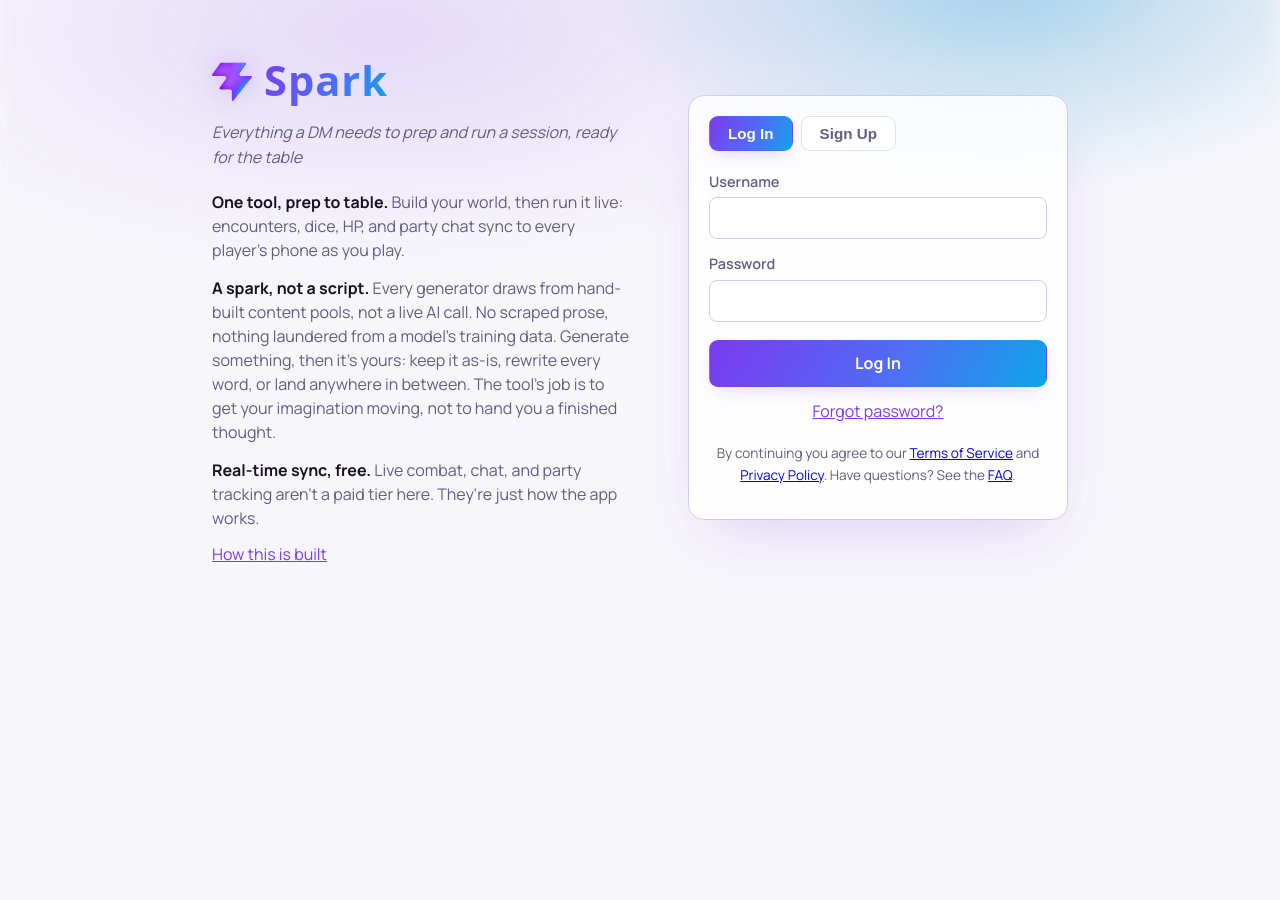
Test: AuthPage › blocks signup submission and shows an error when the confirmation doesn't match
Click the button "Sign Up".
click(848, 133)  # box [801, 116, 896, 151]
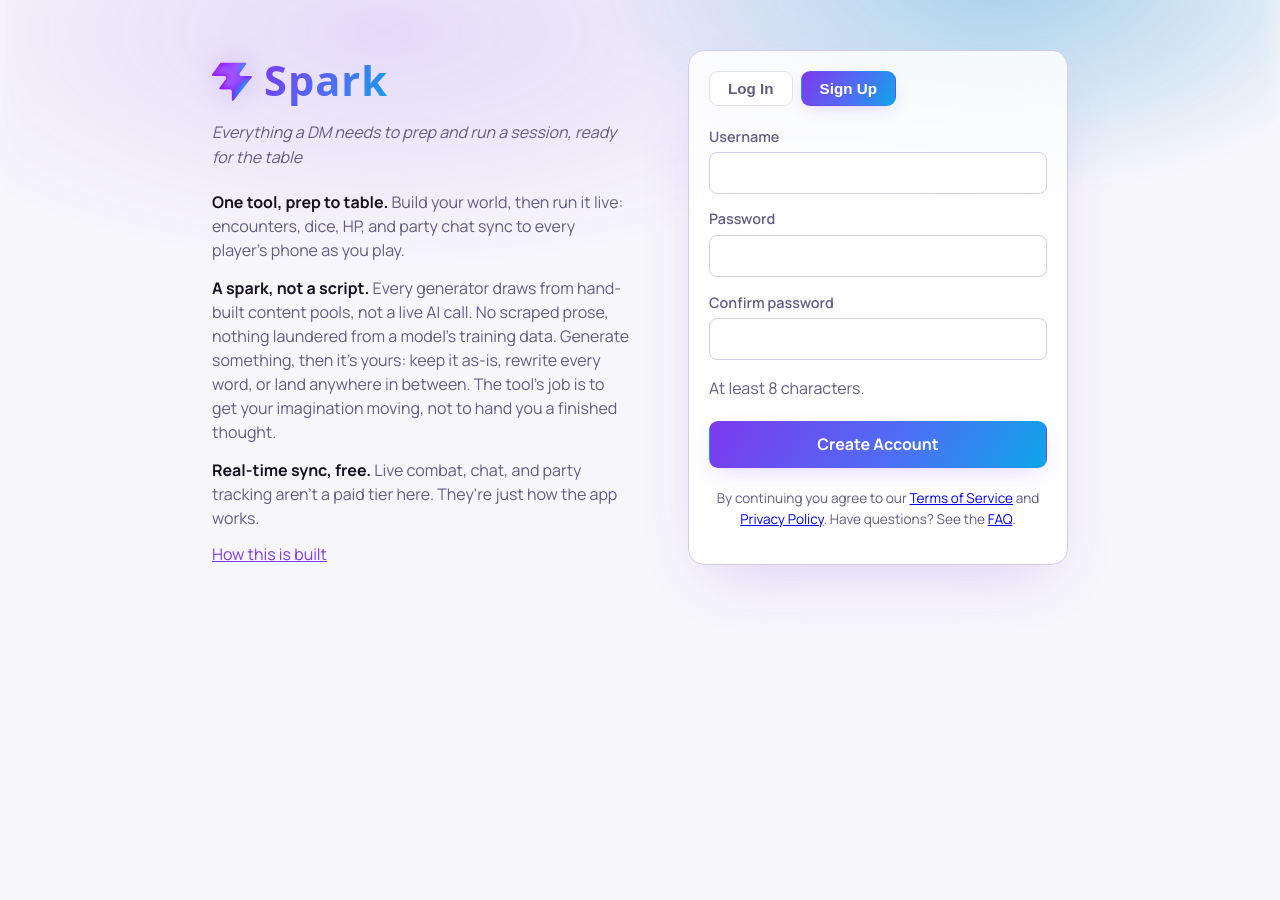
Type "newuser" into the field labelled "Username".
click(878, 174); type("newuser")  # box [709, 153, 1047, 195]
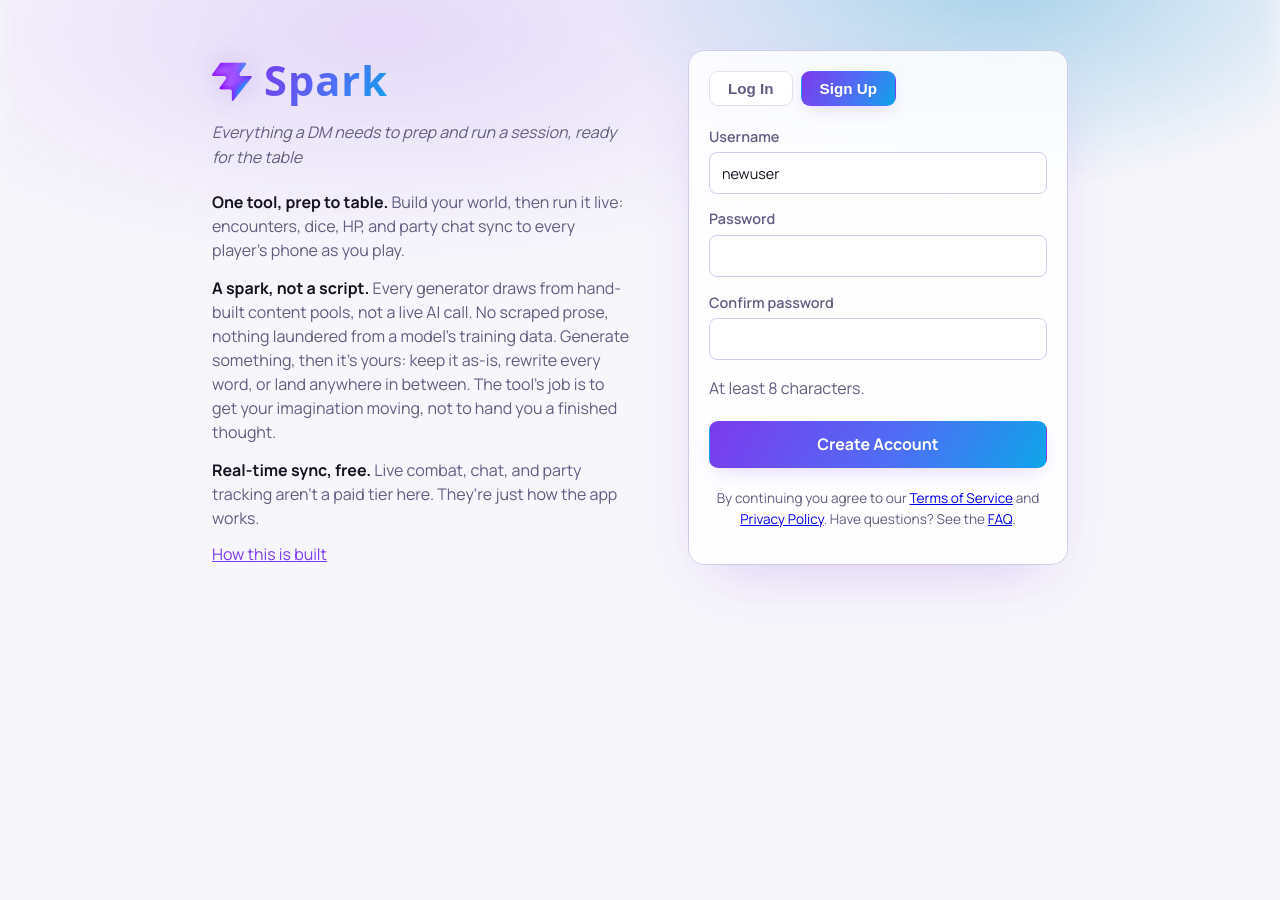
Type "password123" into the password field labelled "Password".
click(878, 256); type("password123")  # box [709, 235, 1047, 278]
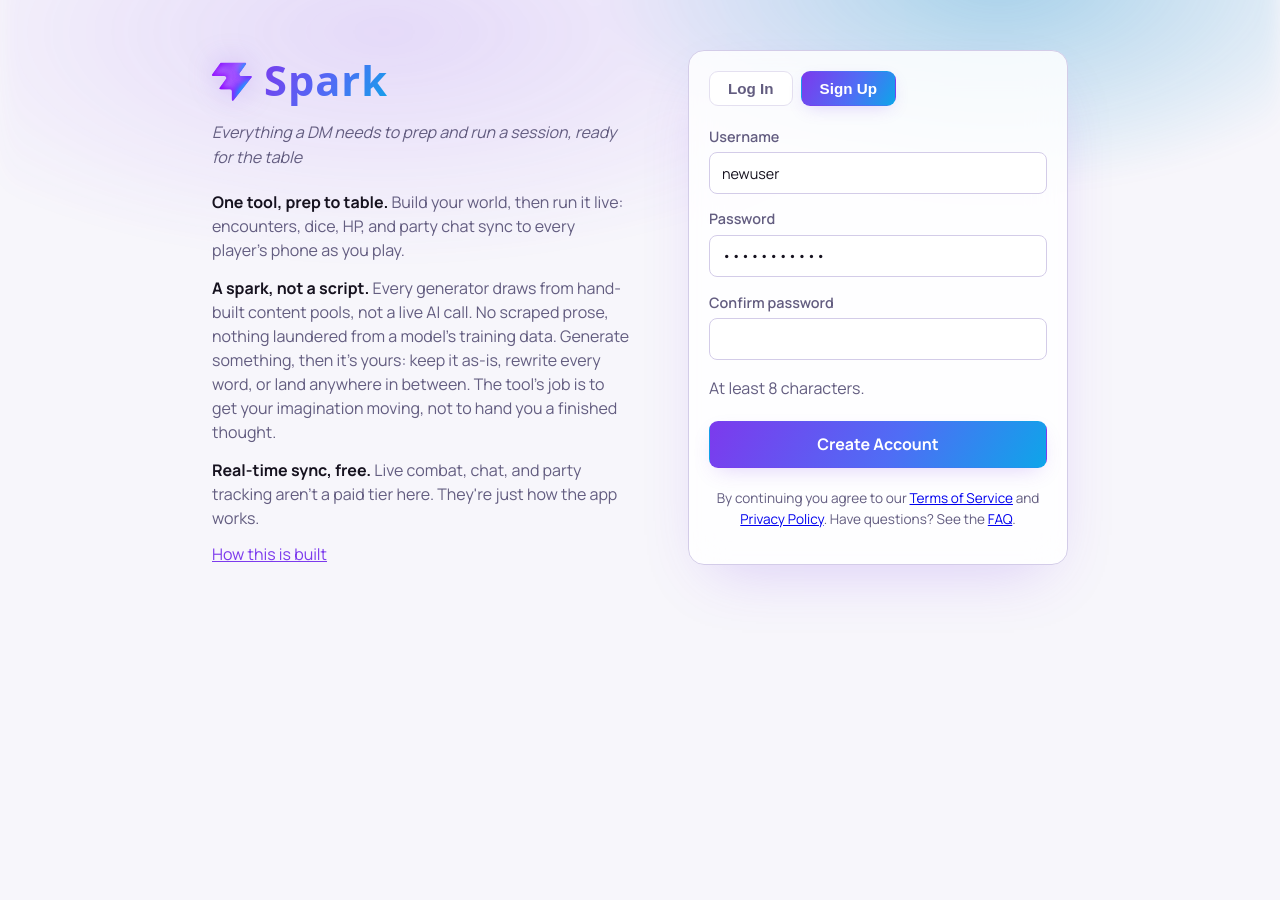
Type "typo" into the password field labelled "Confirm password".
click(878, 339); type("typo")  # box [709, 318, 1047, 360]
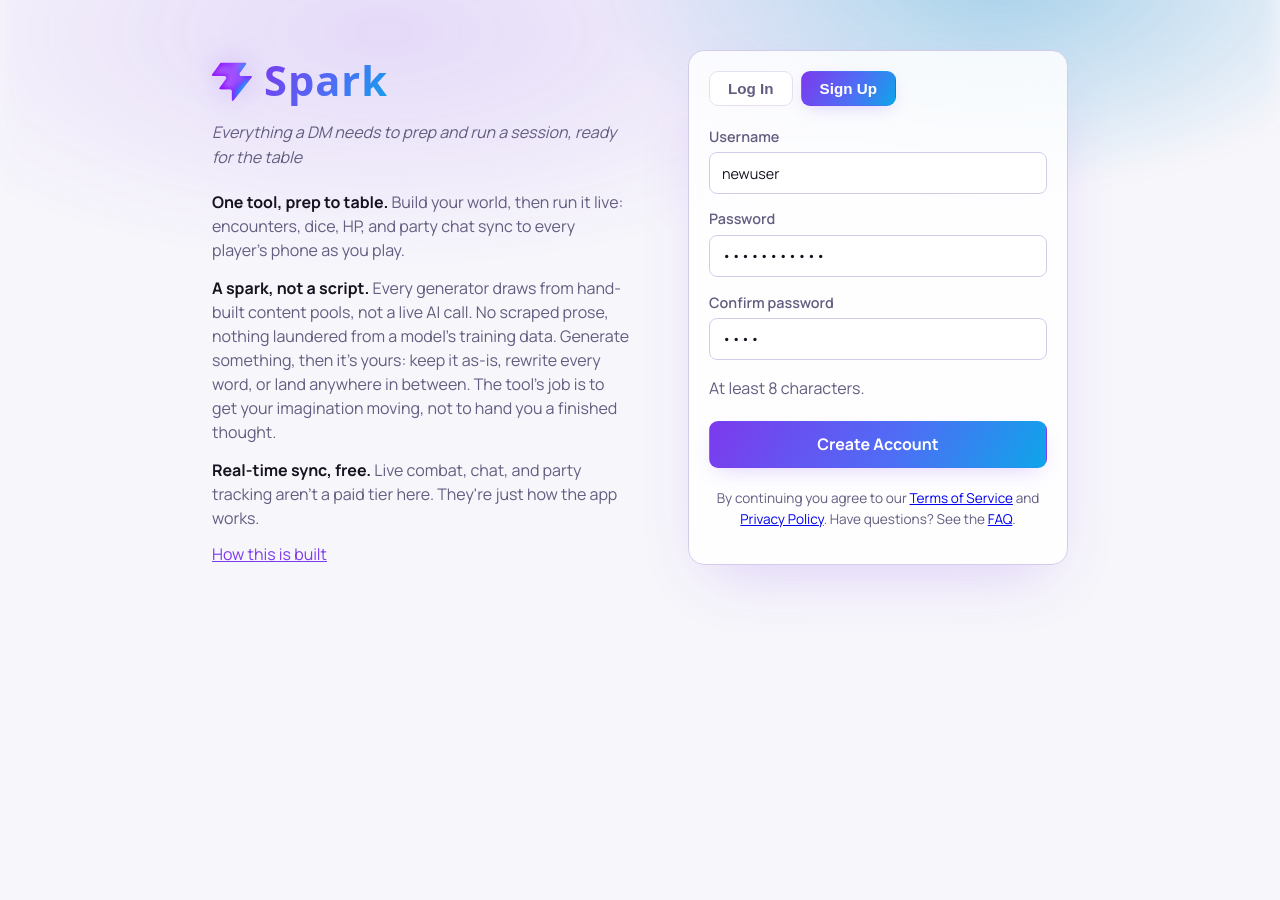
Click the button "Create Account".
click(878, 444)  # box [709, 421, 1047, 468]
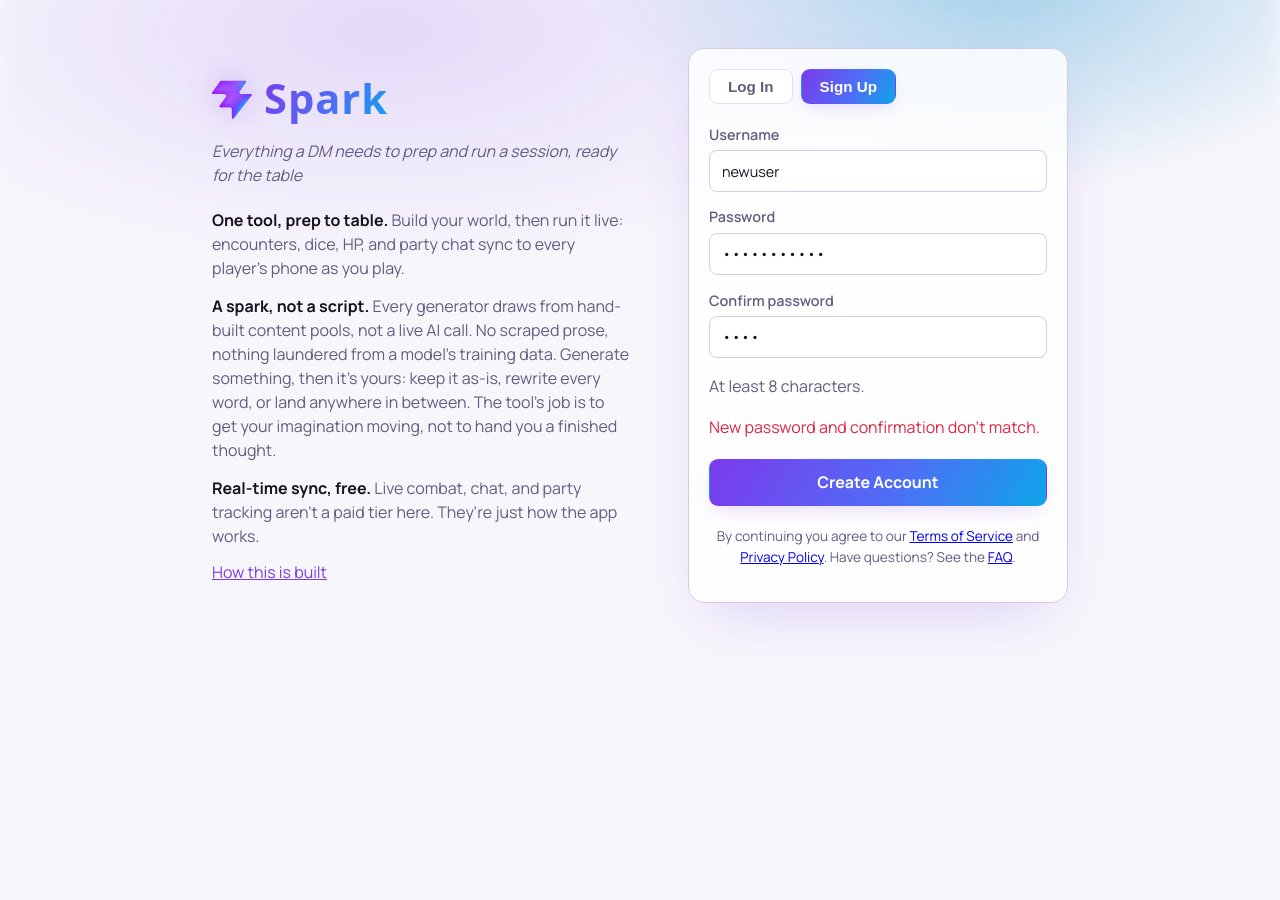
Result: the text "New password and confirmation don't match." is shown at [709, 415, 1047, 440]
